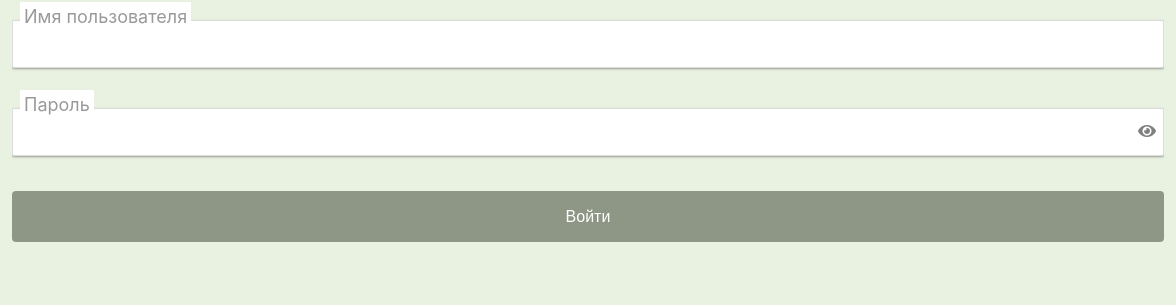
Test: LoginFormContainer › resets error when credentials updated
Expected: the submit button is disabled, [12,191,1164,242]
Type "test" into the field labelled "Имя пользователя".
click(588, 44); type("test")  # box [12,20,1164,68]
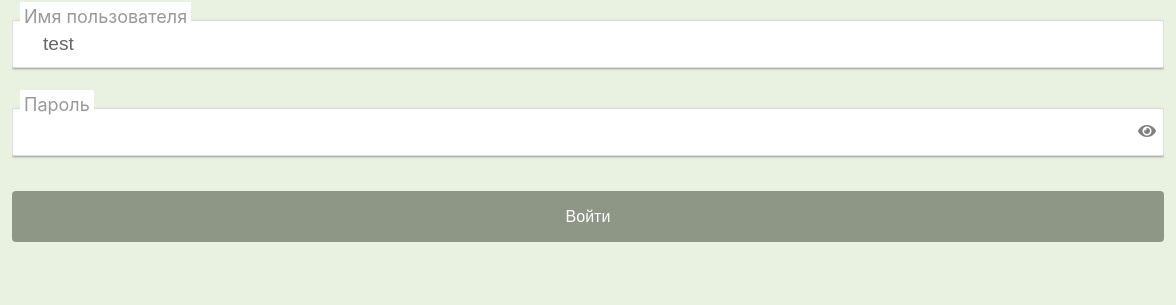
Type "12345678" into the password field labelled "Пароль".
click(588, 132); type("12345678")  # box [12,108,1164,156]
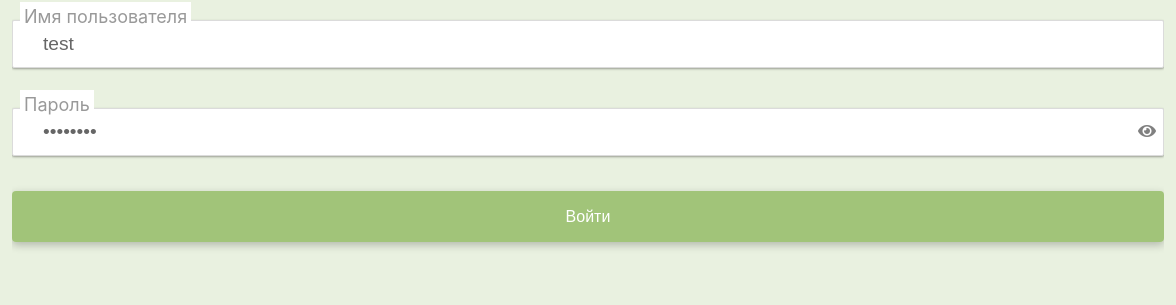
Click the submit button.
click(588, 217)  # box [12,191,1164,242]
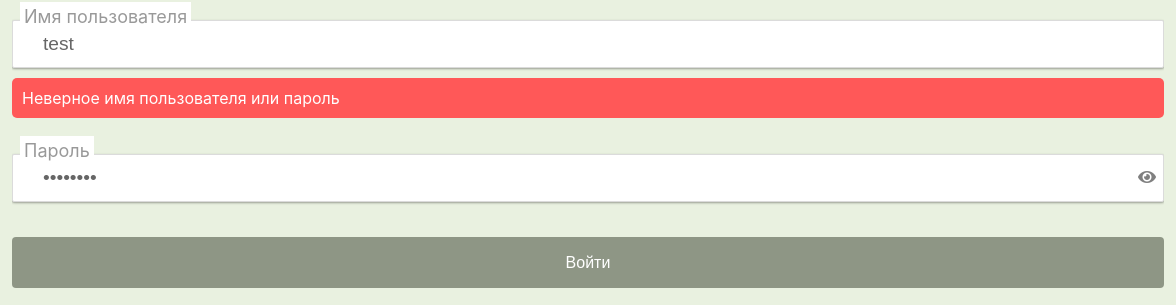
Now the text "Неверное имя пользователя или пароль" is shown, box [12,78,1164,118]
Replace the text in the field labelled "Имя пользователя" with "test1" at (588, 44), box [12,20,1164,68]
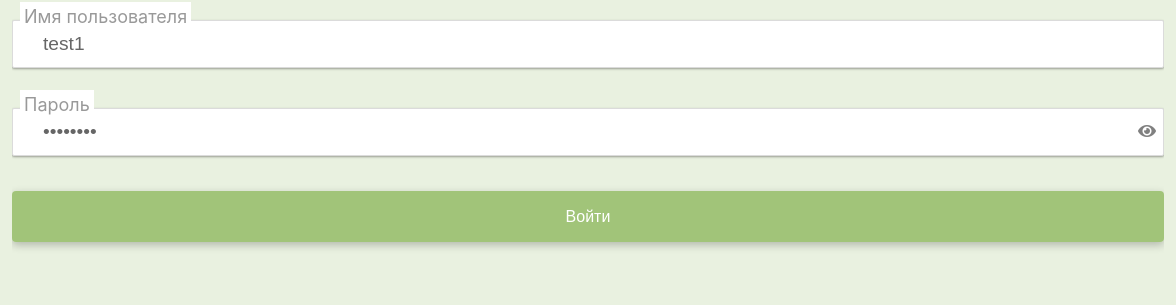
Now the text "Неверное имя пользователя или пароль" is gone
